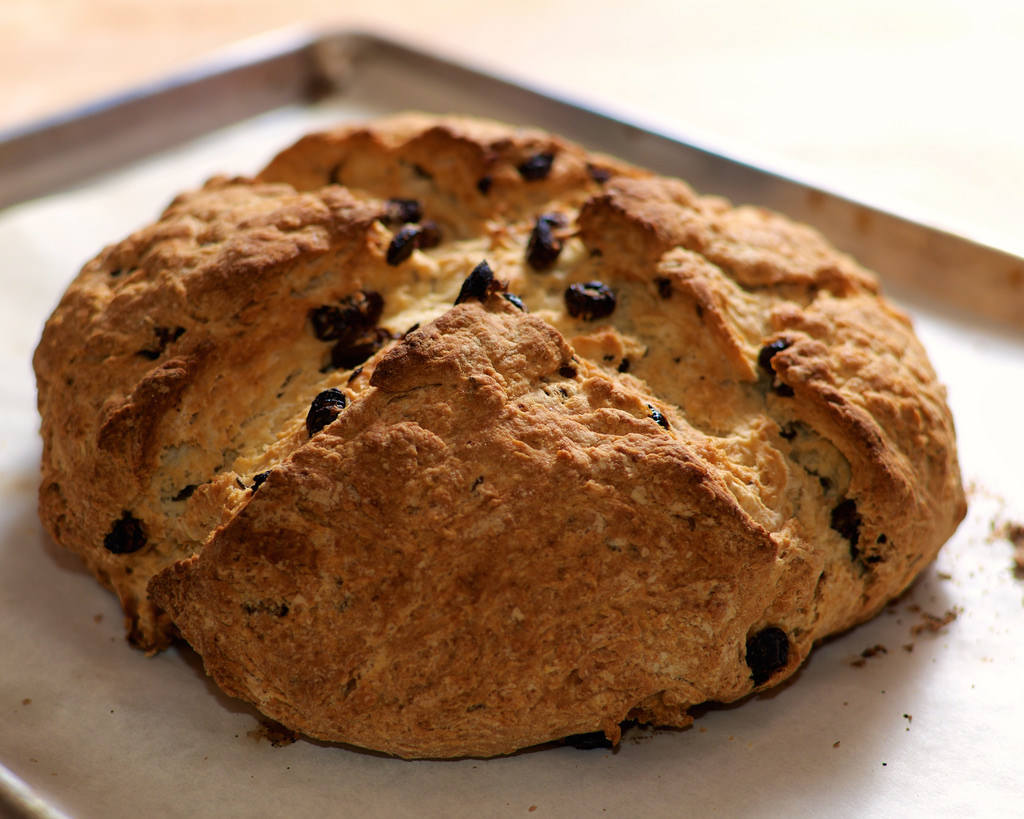slice of bread: (43, 119, 970, 728)
